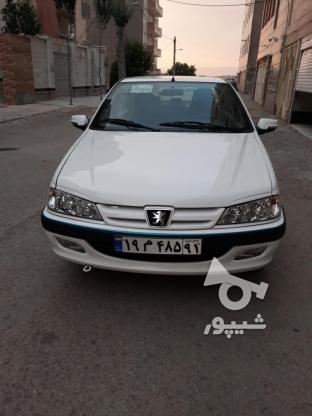car: (112, 235, 202, 255)
